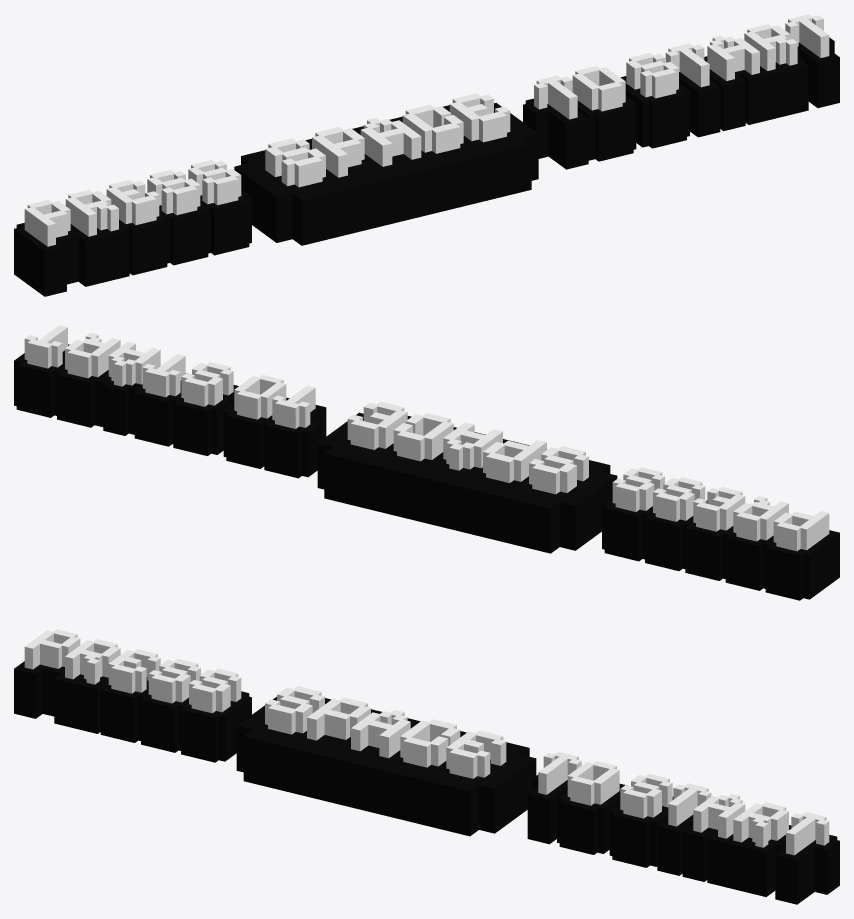
The model's file is DM_CTA.fbx.
3 views of the same model, one above another, from view 1: azimuth 30°, elevation 25°; view 2: azimuth 150°, elevation 25°; view 3: azimuth 330°, elevation 25° (orthographic).
Visible parts, largest first — view 1: DM_CTA_Black, DM_CTA_White; view 2: DM_CTA_Black, DM_CTA_White; view 3: DM_CTA_Black, DM_CTA_White.
Boxes of the visible parts, x1,y1,x2,y2 form: DM_CTA_Black: (14,37,839,296); DM_CTA_White: (24,14,829,246); DM_CTA_Black: (14,344,839,600); DM_CTA_White: (24,325,829,551); DM_CTA_Black: (14,661,839,904); DM_CTA_White: (24,629,829,855).
Bounding box in the file's own units: 14.04 × 1.83 × 1.11.
